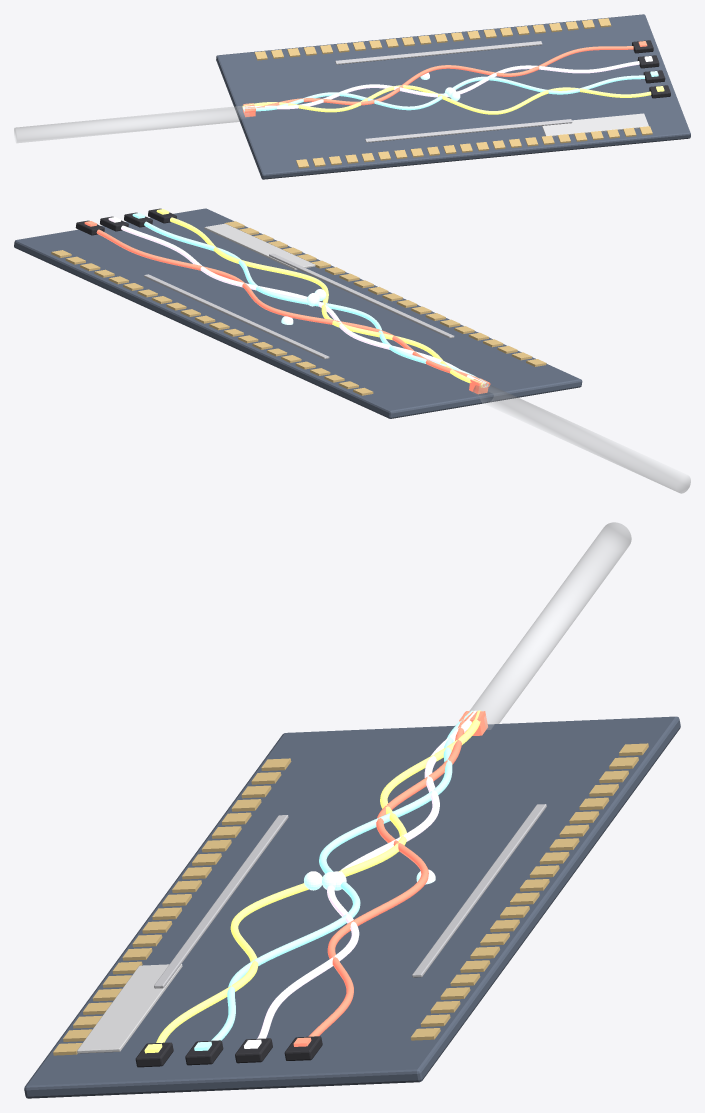
File: luxonnic_braid.glb
3 views of the same model, one above another, from view 1: azimuth 30°, elevation 25°; view 2: azimuth 150°, elevation 25°; view 3: azimuth 270°, elevation 25° (orthographic). The views are drawn at different scales.
Visible parts, largest first — view 1: Die, Fiber, Lane_1, Lane_3, Lane_0, Lane_2, Logo_plate, Heater_bot, Heater_top; view 2: Die, Fiber, Lane_0, Lane_1, Lane_3, Lane_2, Logo_plate, Heater_bot, Heater_top; view 3: Die, Fiber, Lane_1, Logo_plate, Lane_3, Lane_0, Lane_2, Heater_top, Heater_bot.
Boxes of the visible parts, x1,y1,x2,y2 form: Die: (216,14,690,179); Fiber: (14,106,248,142); Lane_1: (242,85,651,114); Lane_3: (244,75,644,111); Lane_0: (244,46,633,112); Lane_2: (243,61,639,109); Logo_plate: (542,113,648,136); Heater_bot: (365,119,572,142); Heater_top: (335,41,542,64); Die: (14,208,582,418); Fiber: (473,383,690,493); Lane_0: (96,229,490,386); Lane_1: (170,217,484,387); Lane_3: (144,221,488,387); Lane_2: (121,225,486,387); Logo_plate: (204,223,315,269); Heater_bot: (269,253,454,338); Heater_top: (144,274,329,359); Die: (24,716,680,1098); Fiber: (470,522,631,729); Lane_1: (156,710,481,1042); Logo_plate: (77,964,182,1053); Lane_3: (211,710,473,1040); Lane_0: (308,711,469,1036); Lane_2: (257,710,476,1038); Heater_top: (412,804,546,977); Heater_bot: (154,815,288,988).
Bounding box in the file's own units: 7.63 × 0.5155 × 3.73.
